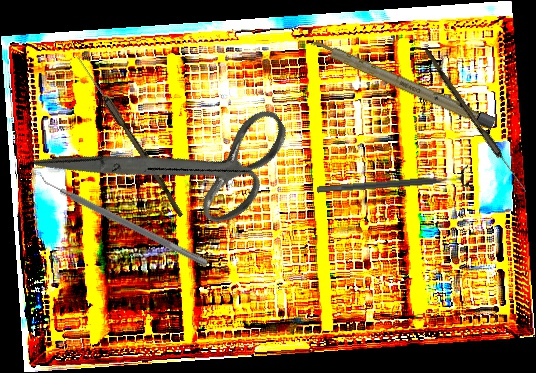Fixation Ring: (316, 164, 470, 202)
Iris Scissors: (32, 36, 312, 293)
Scalpel Handle: (308, 37, 497, 130)
Spatula Surgical: (33, 168, 213, 268)
Surgical Spoon: (73, 55, 188, 218), (421, 48, 530, 194)
